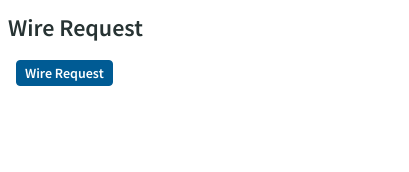
preserves unsaved edits by requiring them to be resolved
What coordinates should you click on to do the following:
click the button "Wire Request"
I would click on:
 (64, 73)
Its box is [16, 60, 113, 86].
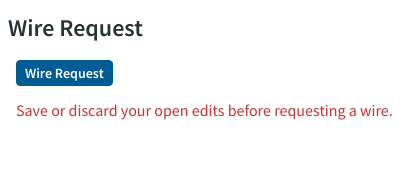
Expected: the message shows "Save or discard", [16, 100, 393, 120]
